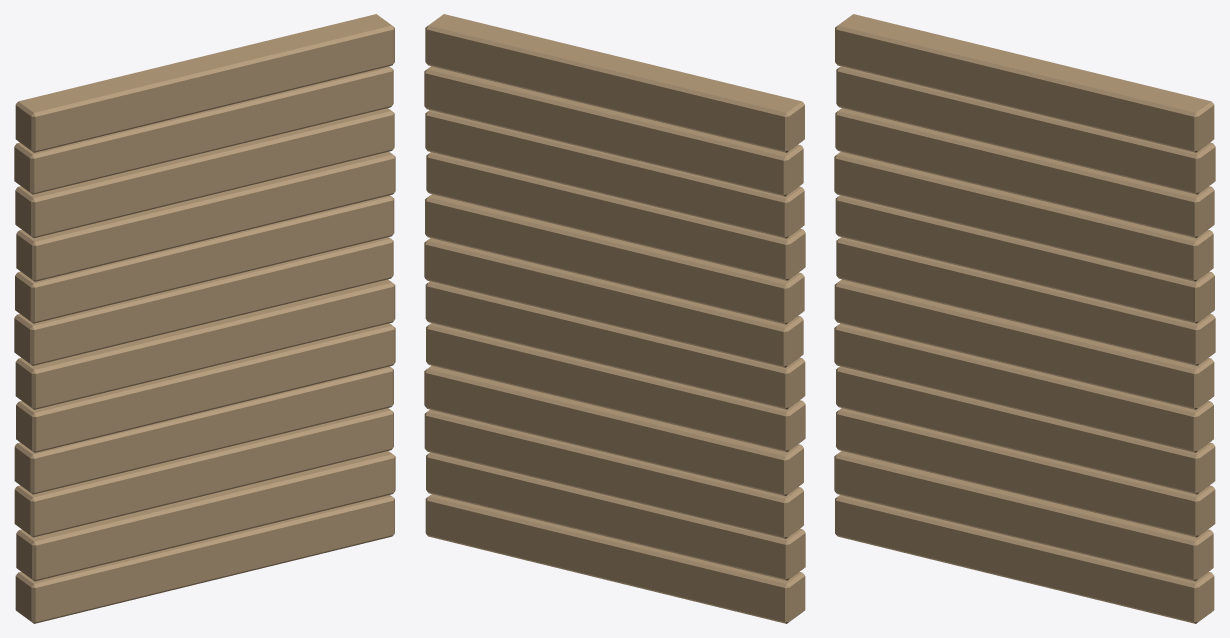
The model's file is wall_1_level.glb.
The picture shows the model from 3 angles, left to right: view 1: azimuth 30°, elevation 25°; view 2: azimuth 150°, elevation 25°; view 3: azimuth 330°, elevation 25°; orthographic projection.
Parts seen in each view (by area): view 1: wall_1_level; view 2: wall_1_level; view 3: wall_1_level.
Boxes of the visible parts, left/top/right/bottom form: wall_1_level: left=14, top=14, right=395, bottom=623; wall_1_level: left=424, top=14, right=805, bottom=623; wall_1_level: left=834, top=14, right=1215, bottom=623.
Bounding box in the file's own units: 2 × 2.68 × 0.1998.
